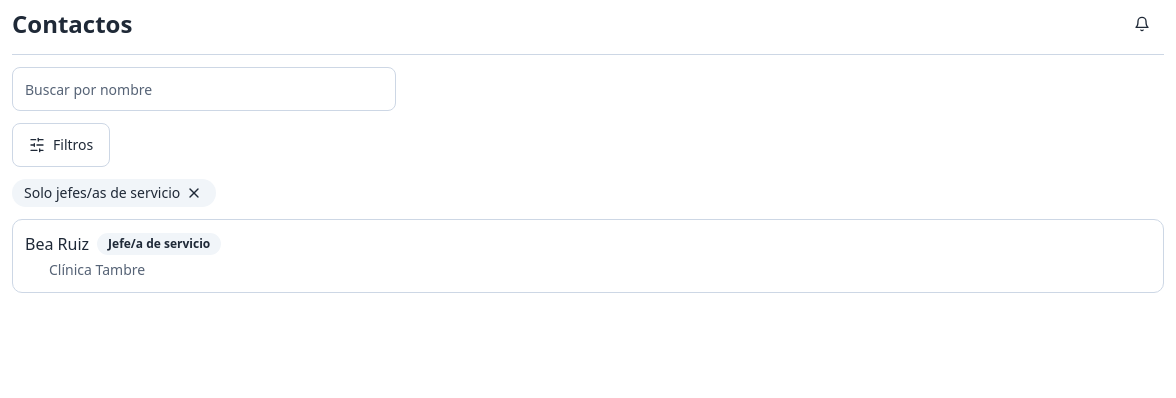
Test case: ContactListPage › reproduces the list from the URL and clears the filters when nothing matches
The width and height of the screenshot is (1176, 398).
Check: the text "Bea Ruiz" is shown, box [25, 232, 89, 256]
Check: the text "Ana Pérez" is not shown
In the search field labelled "Buscar por nombre": (204, 89) [12, 67, 396, 111], type "zzz"
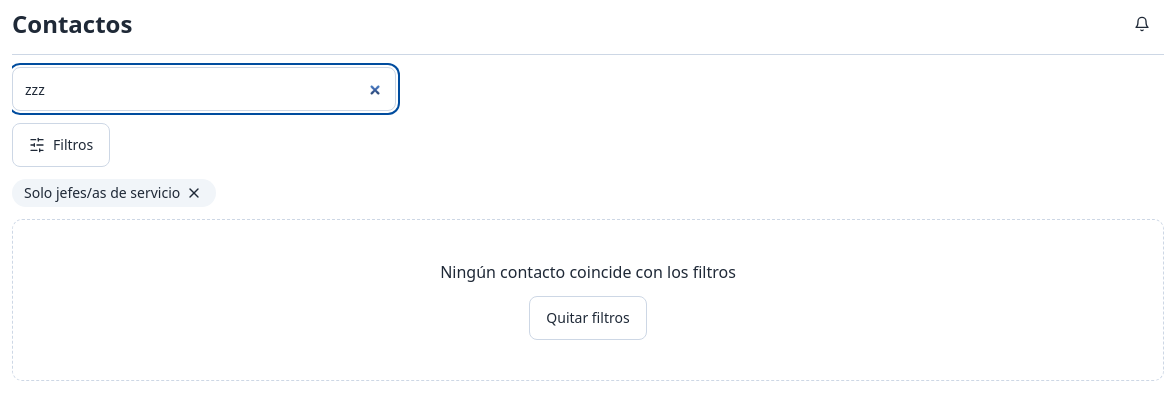
Check: the text "Ningún contacto coincide con los filtros" is shown, box [440, 260, 736, 284]
Click the button "Quitar filtros": (588, 318) [529, 296, 647, 340]
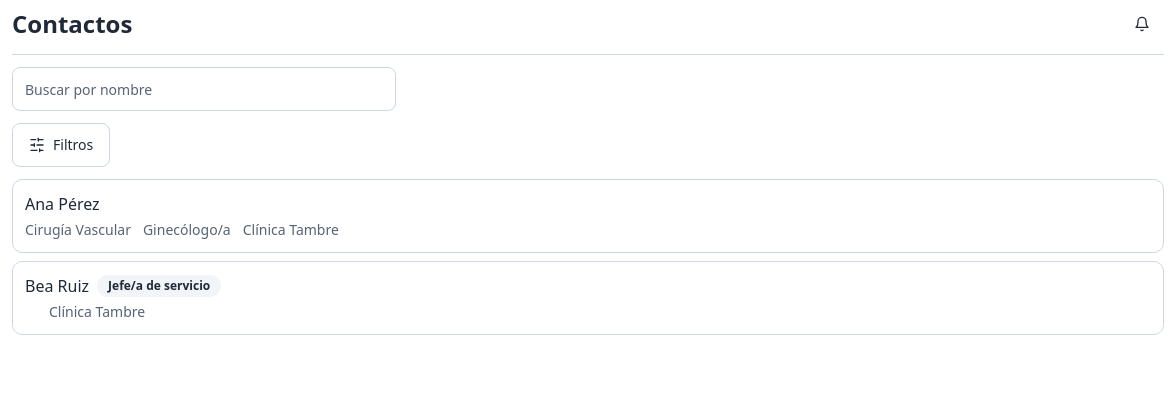
Check: the text "Ana Pérez" is shown, box [25, 192, 100, 216]
